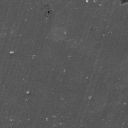corrosion: (46, 9, 52, 15), (9, 50, 15, 55), (26, 90, 30, 95)
